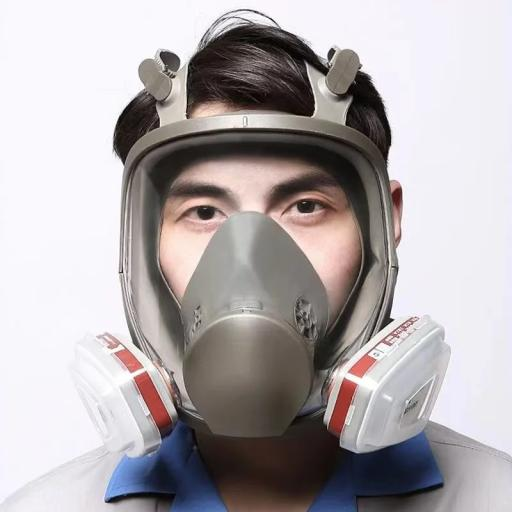mask: (63, 114, 481, 458)
